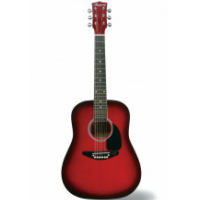guitar: (60, 1, 143, 199)
